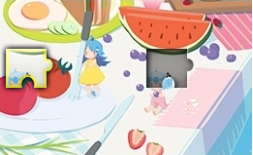w: (146, 49, 194, 89)
